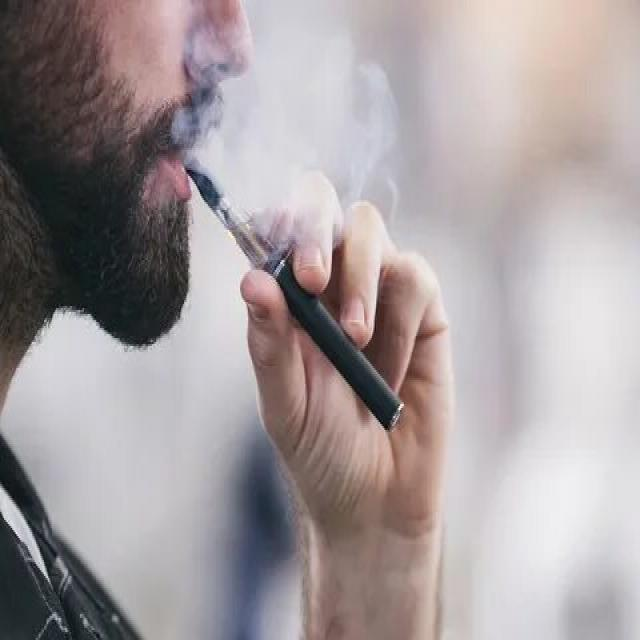smoke: (180, 144, 411, 440)
